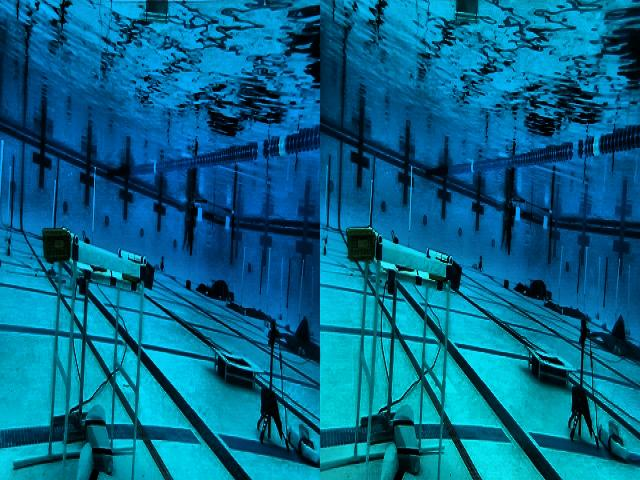gate: (508, 194, 553, 265), (190, 197, 234, 266)
octagon_table: (347, 228, 462, 480), (42, 227, 156, 480)
path_marker: (527, 277, 547, 303), (209, 278, 227, 302)
